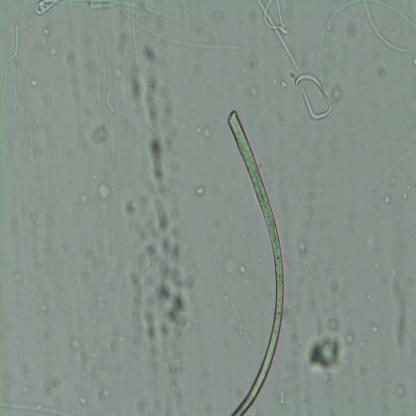Background material: (392, 269, 413, 354), (307, 331, 346, 371), (42, 374, 63, 395), (92, 123, 109, 145), (367, 311, 381, 336), (100, 383, 114, 406), (96, 181, 112, 200), (71, 336, 86, 356), (196, 124, 213, 139), (343, 328, 357, 345), (394, 382, 408, 399), (49, 46, 61, 64), (25, 73, 39, 88), (194, 186, 208, 196), (77, 394, 88, 406), (40, 28, 51, 39)
Glass filter fibre: (127, 69, 194, 367), (88, 1, 244, 51), (319, 1, 361, 124), (301, 189, 338, 323), (211, 257, 254, 351), (255, 1, 301, 71), (365, 146, 416, 194), (362, 1, 409, 53), (288, 70, 334, 118), (2, 22, 22, 120), (370, 1, 416, 32), (0, 399, 74, 414), (128, 1, 142, 67), (34, 0, 61, 19), (105, 86, 117, 115)
Microfibre: (224, 107, 286, 414)
